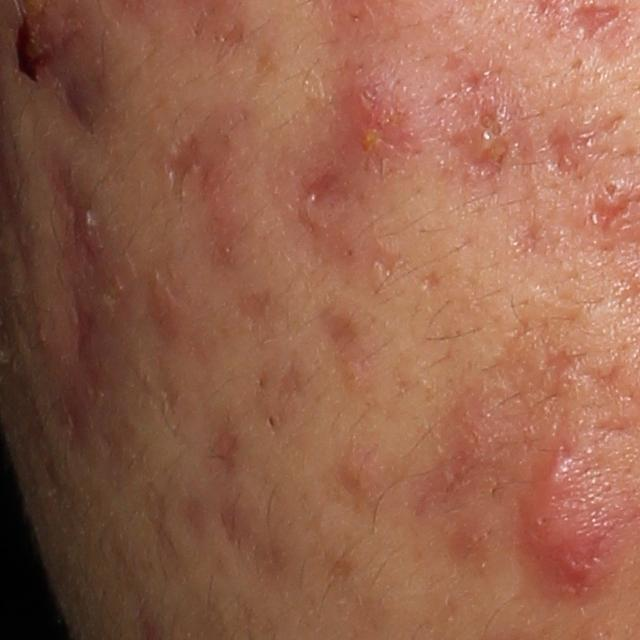atrophic_scar: (439, 306, 599, 496), (45, 149, 105, 364), (287, 165, 349, 241), (159, 120, 211, 203), (562, 1, 630, 57), (546, 121, 594, 181), (366, 240, 414, 291), (231, 286, 273, 326), (418, 269, 441, 291)
comedo: (265, 412, 278, 433)
papule: (140, 267, 182, 337), (333, 457, 379, 500)
